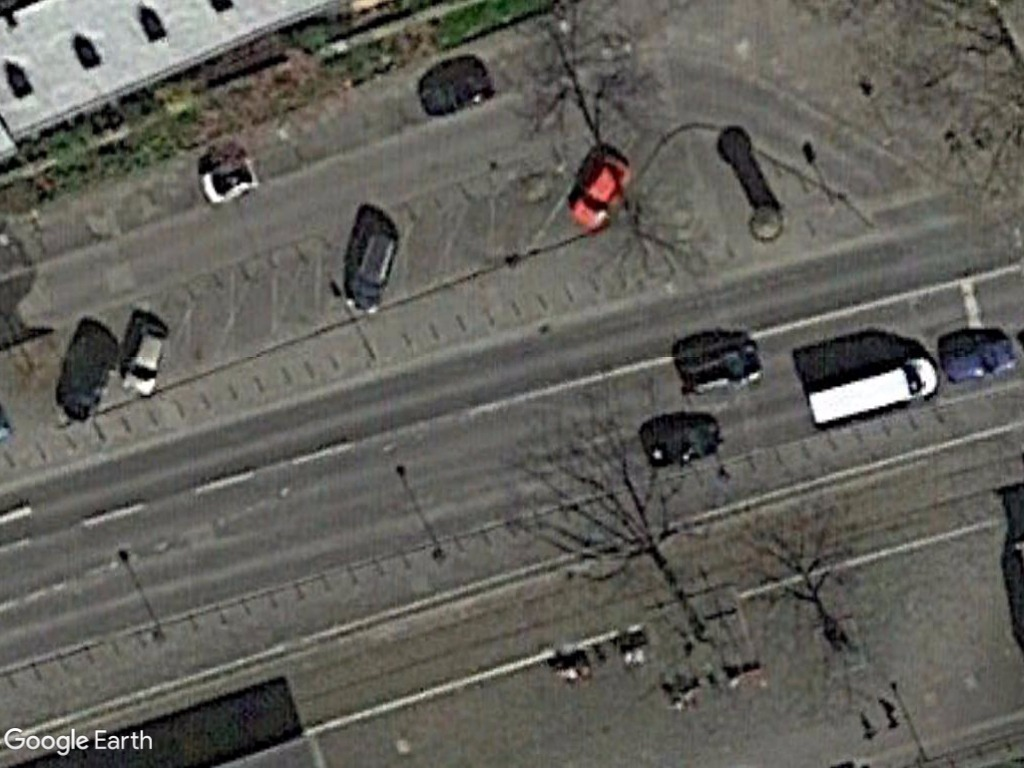car: (568, 152, 632, 232), (119, 319, 173, 402)
van: (800, 356, 939, 432)
